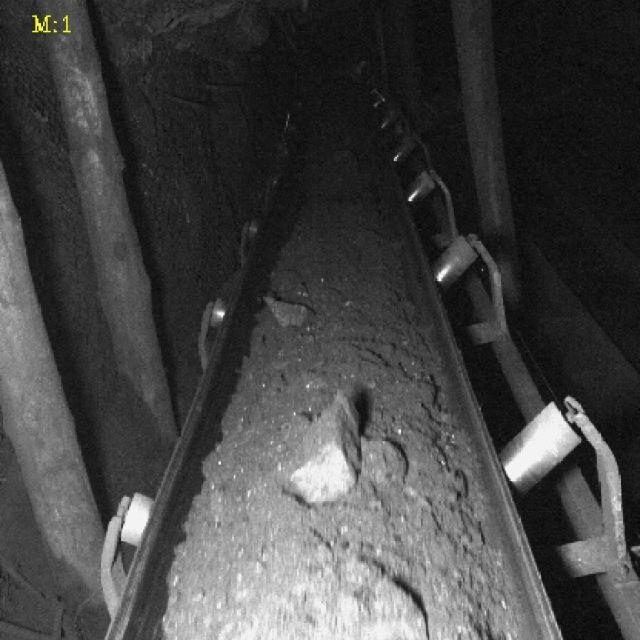large_sized_coal: (220, 521, 429, 640), (285, 388, 366, 509), (359, 432, 403, 490), (265, 294, 312, 329)
